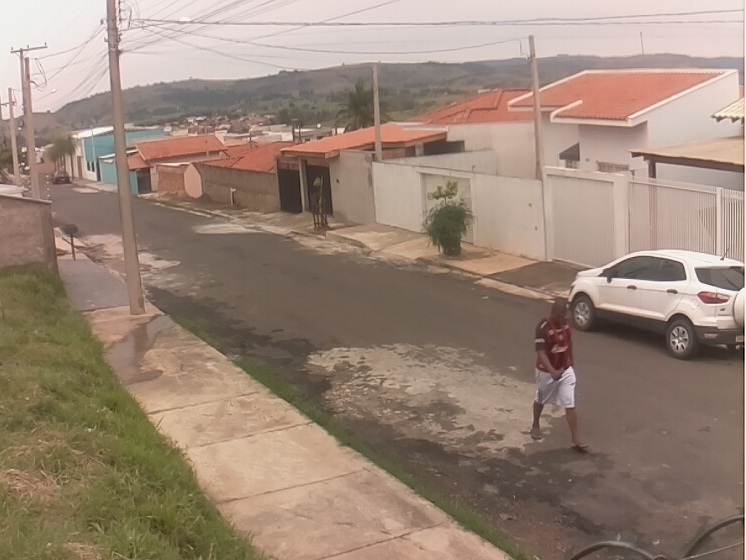person: (529, 297, 588, 449)
